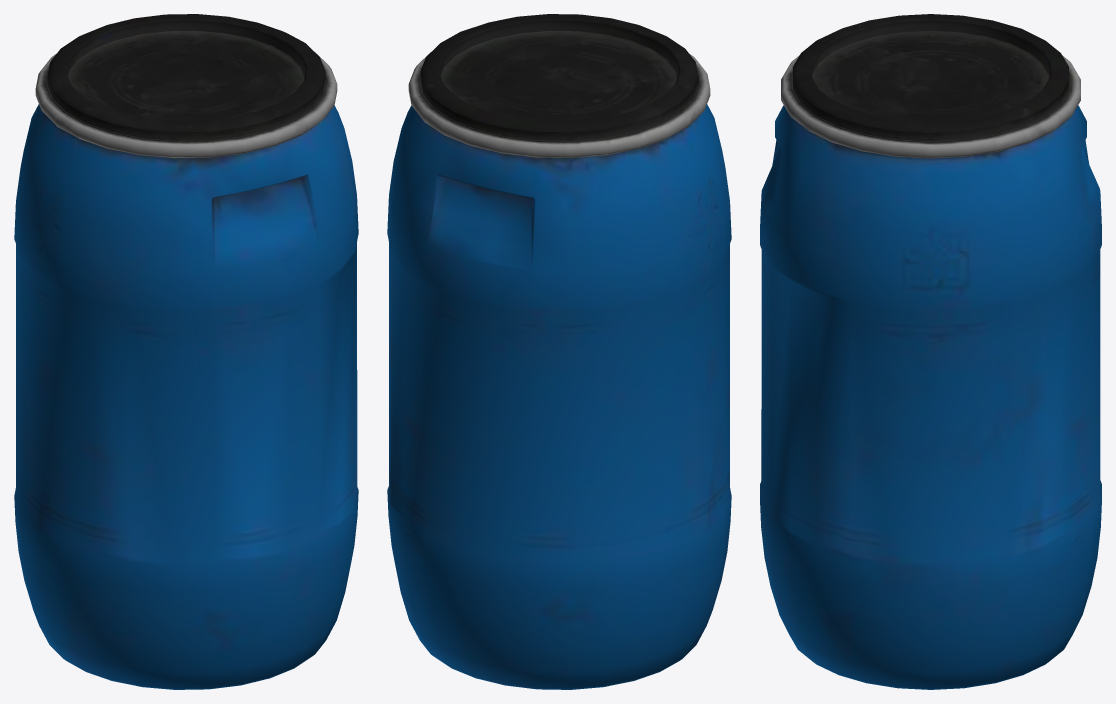
The model's file is drumPlastic.glb.
3 renders of one model, left to right at view 1: azimuth 30°, elevation 25°; view 2: azimuth 150°, elevation 25°; view 3: azimuth 270°, elevation 25°, orthographic.
Parts seen in each view (by area): view 1: Barrel_02; view 2: Barrel_02; view 3: Barrel_02.
Boxes of the visible parts, <box> form: Barrel_02: <box>14,14,358,689</box>; Barrel_02: <box>387,14,731,689</box>; Barrel_02: <box>760,14,1101,689</box>.
Size of the model in its own units: 0.4882 by 0.88 by 0.4846.
Materials: 1 (1 with a texture image).
